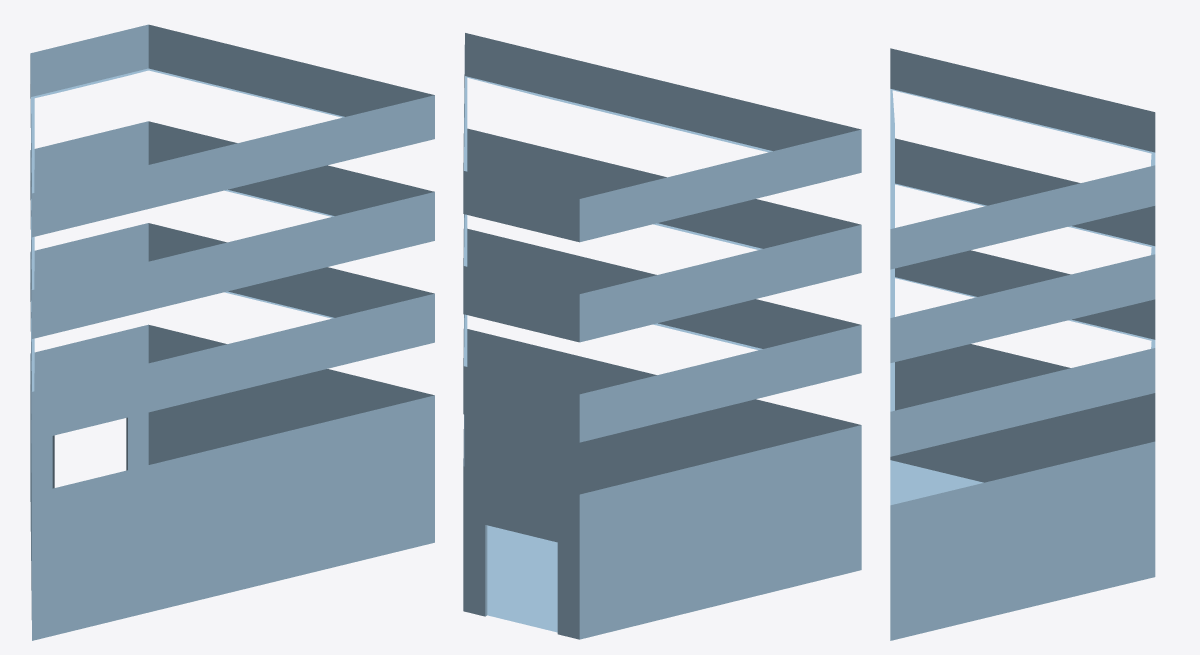
File: Bld_C_high_L3_B.fbx
3 views of the same model, side by side, from view 1: azimuth 30°, elevation 25°; view 2: azimuth 150°, elevation 25°; view 3: azimuth 270°, elevation 25° (orthographic). The views are drawn at different scales.
Visible parts, largest first — view 1: Bld_C_high_L3_B_LOD0; view 2: Bld_C_high_L3_B_LOD0; view 3: Bld_C_high_L3_B_LOD0.
Boxes of the visible parts, x1,y1,x2,y2 form: Bld_C_high_L3_B_LOD0: [30, 24, 434, 640]; Bld_C_high_L3_B_LOD0: [463, 33, 861, 639]; Bld_C_high_L3_B_LOD0: [890, 48, 1155, 640].
Size of what is drawn, in the model's own units: 2100 by 2779 by 1448.
Materials: 1 (1 with a texture image).
